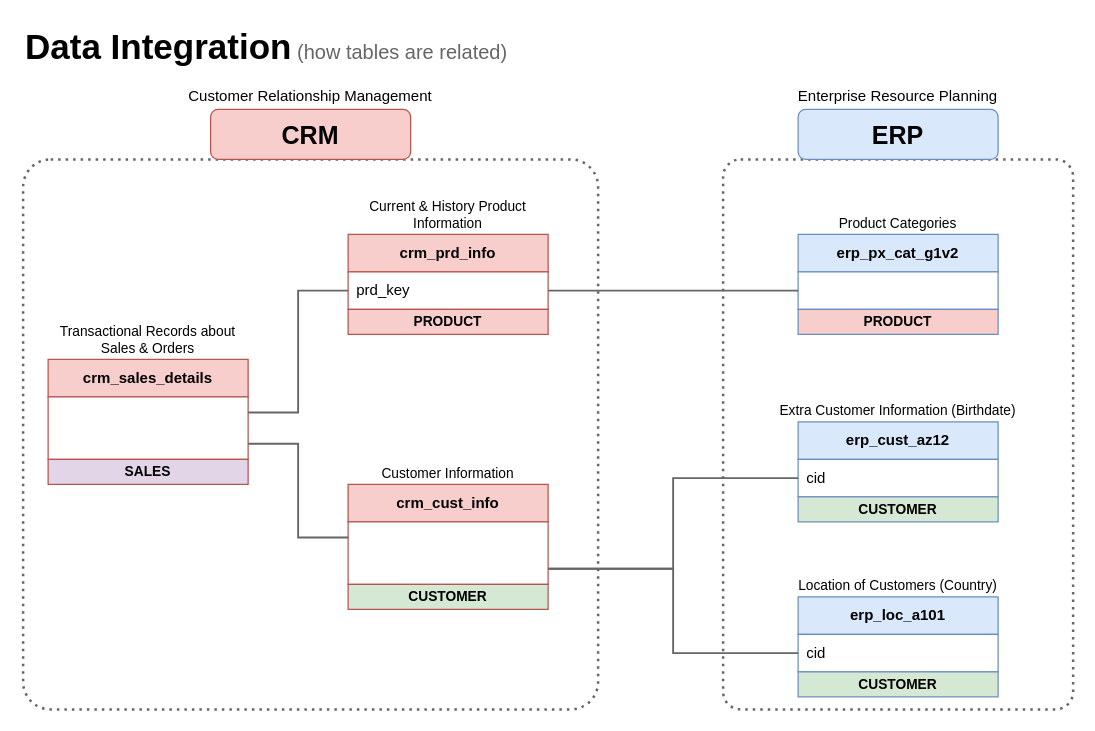
The diagram is 1095 pixels wide and 731 high, and some of its shapes have lost their labels. Each missing label, with the box of its shape:
cst_id cst_key: (347, 521, 548, 584)
id: (797, 271, 998, 309)
prd_key cst_id: (47, 396, 248, 459)
